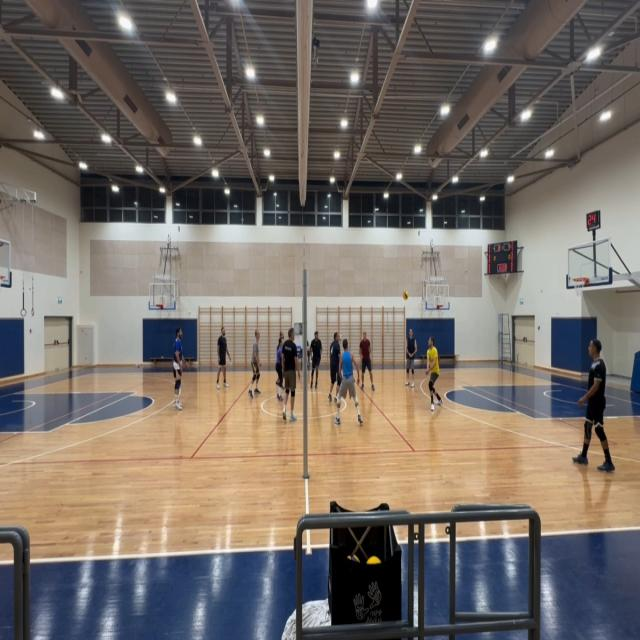volleyball: (403, 291, 408, 300)
